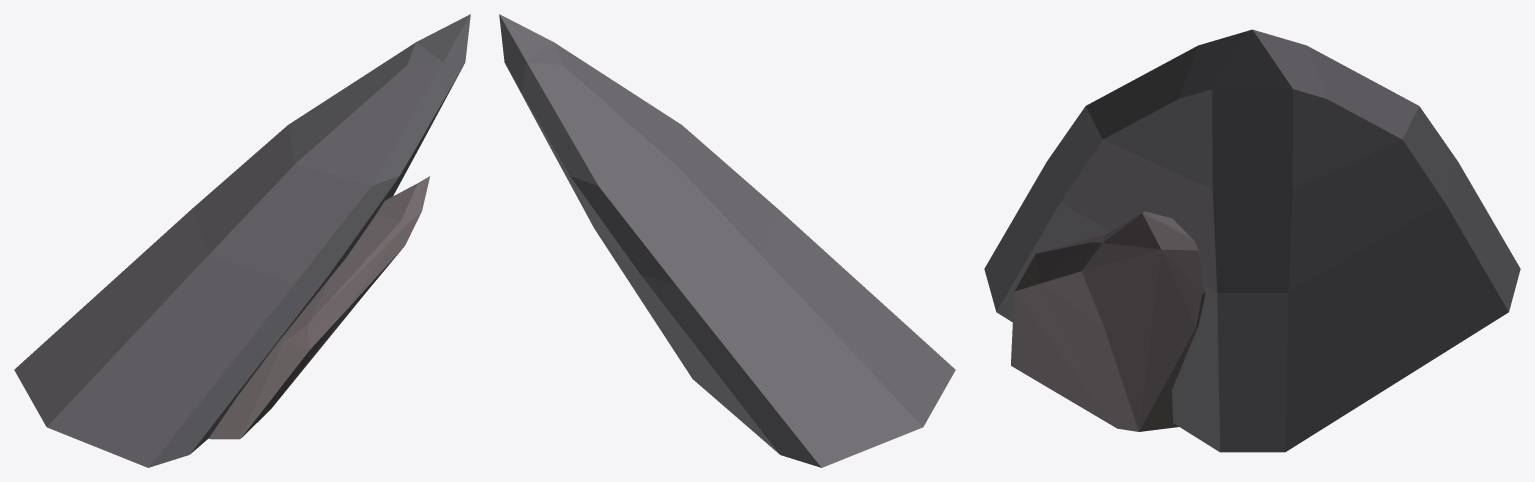
The model's file is Rocks_Sharp_l_02 2.fbx.
3 views of the same model, side by side, from view 1: azimuth 30°, elevation 25°; view 2: azimuth 150°, elevation 25°; view 3: azimuth 270°, elevation 25° (orthographic). The views are drawn at different scales.
Parts seen in each view (by area): view 1: Rocks_Sharp_l_02; view 2: Rocks_Sharp_l_02; view 3: Rocks_Sharp_l_02.
Part boxes in pixels (box(x1,y1,x2,y2)): Rocks_Sharp_l_02: box(14, 14, 470, 467); Rocks_Sharp_l_02: box(499, 14, 955, 467); Rocks_Sharp_l_02: box(984, 29, 1520, 452).
Bounding box in the file's own units: 1141 × 807 × 625.
